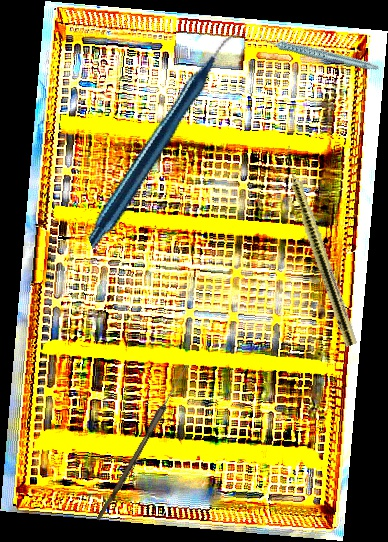Handpiece: (40, 33, 292, 249), (276, 144, 361, 348), (257, 10, 381, 94)
Surgical Spoon: (96, 363, 190, 523)
